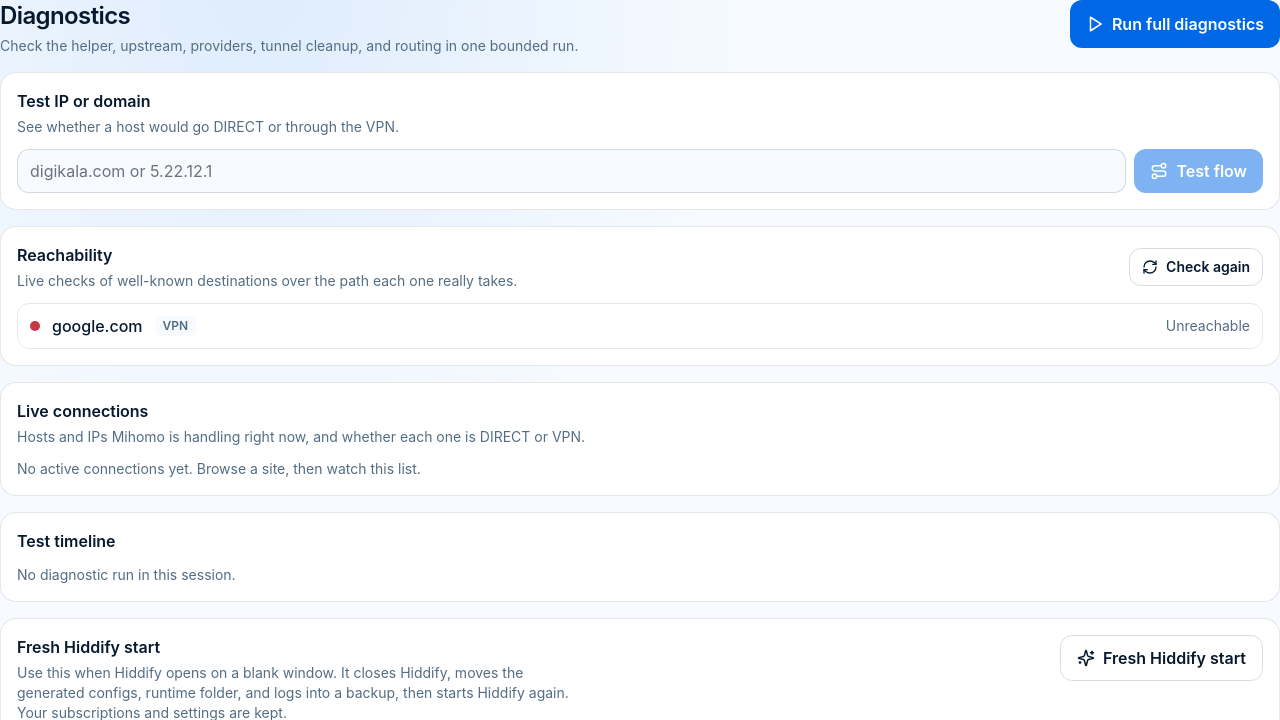
Test: Diagnostics › explains an unreachable VPN domain as expected while disconnected
Click the button titled "Click for likely causes" at (97, 326), box x1=18 y1=304 x2=1262 y2=348
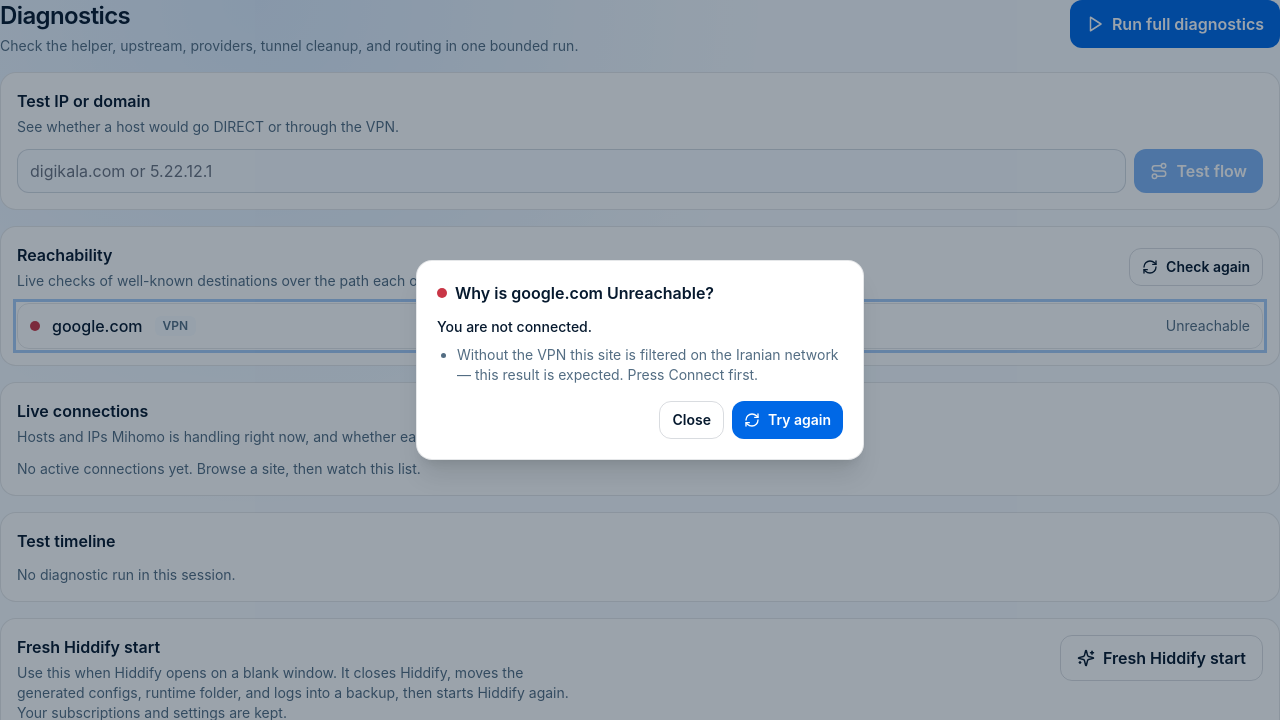
Expected: the dialog shows "Press Connect first", x1=457 y1=346 x2=839 y2=383
